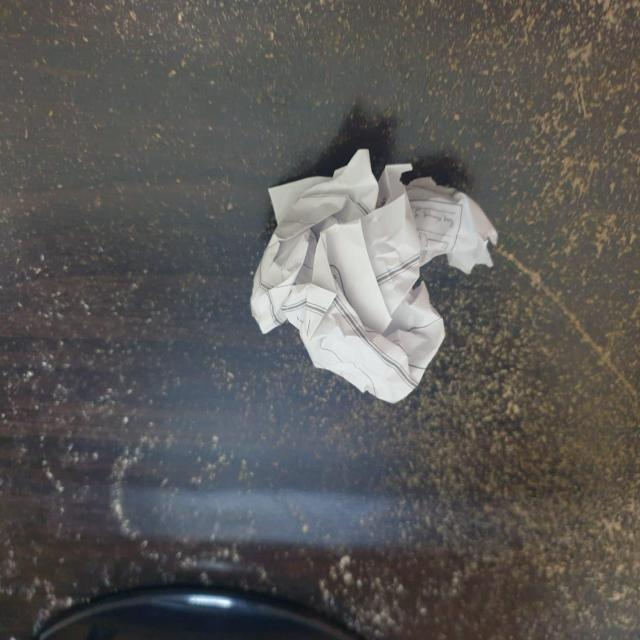kertas: (246, 156, 500, 431)
